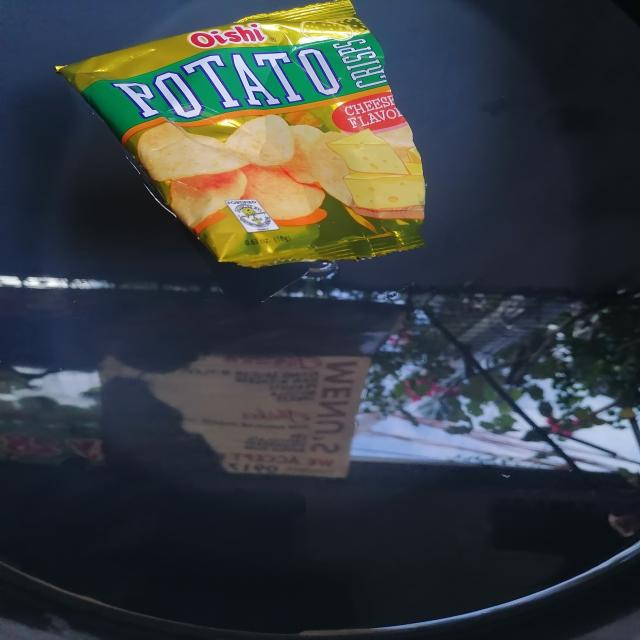Plastic Wrapper: (55, 0, 425, 268)
